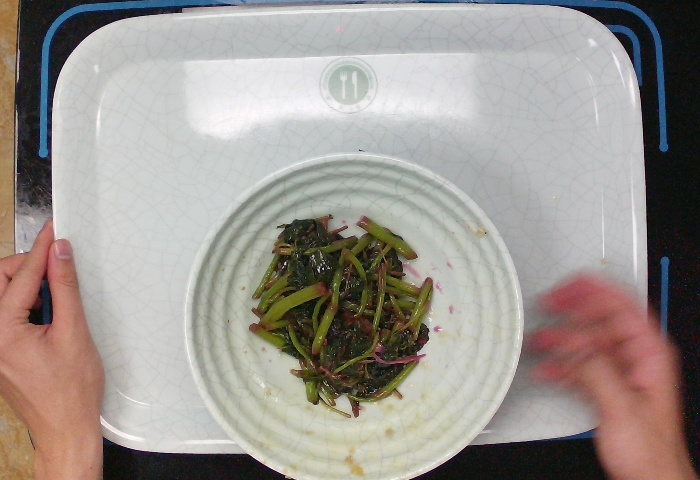JYsf-Da_Tang_Wan: (178, 148, 528, 480)
